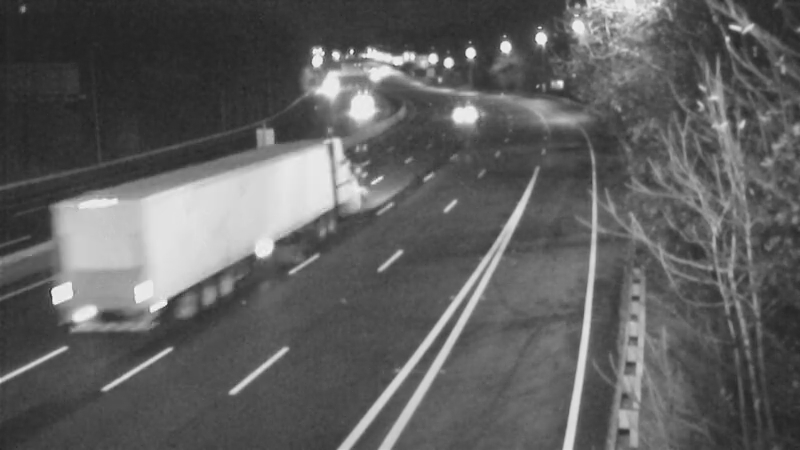vehicle: (252, 156, 332, 236), (434, 85, 484, 135), (337, 82, 387, 132), (306, 60, 356, 110)
